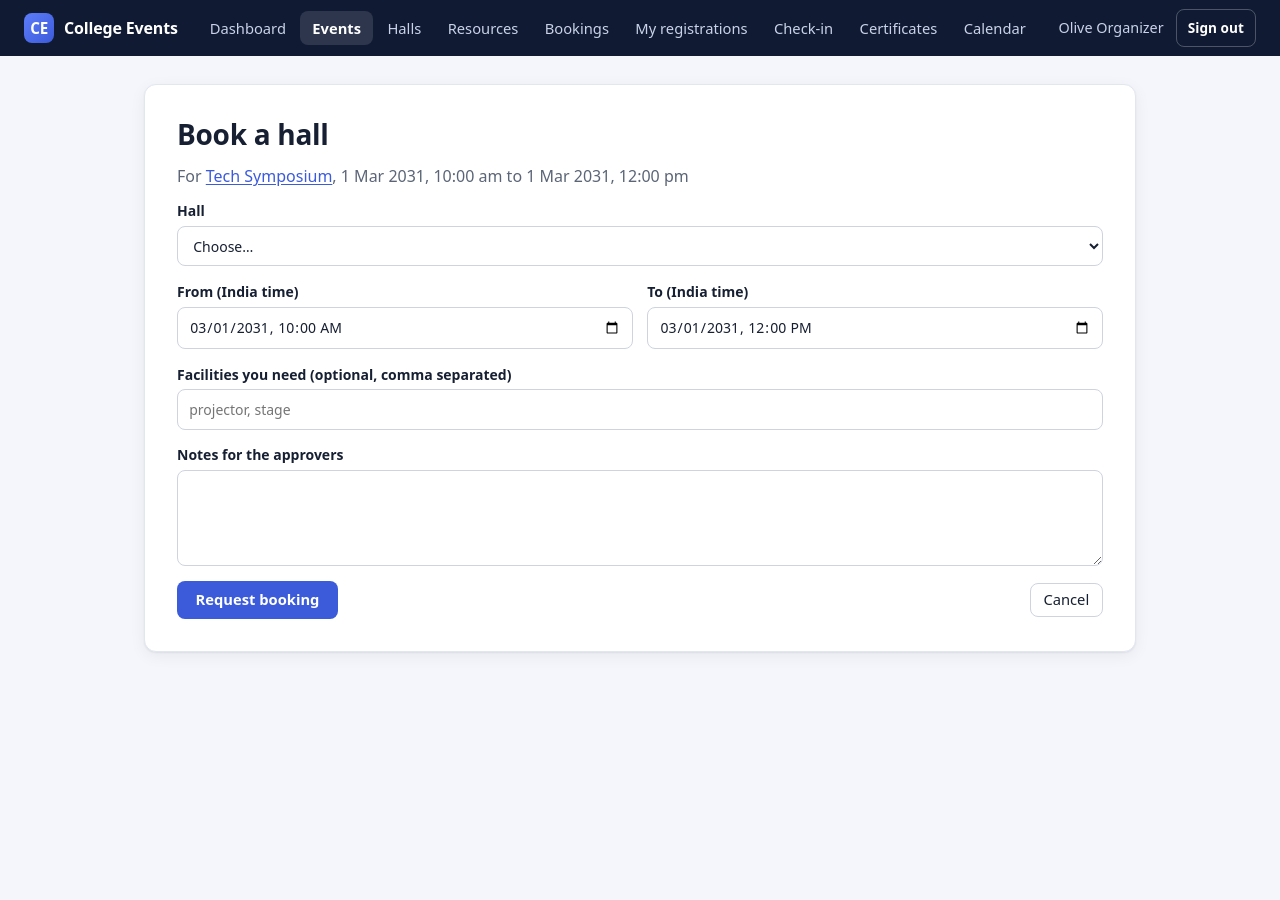
it: booking form › shows warnings and books only after "Book anyway"
Select "Main Hall (seats 200)" in the dropdown labelled "Hall": (640, 246) 177,226 -> 1103,266
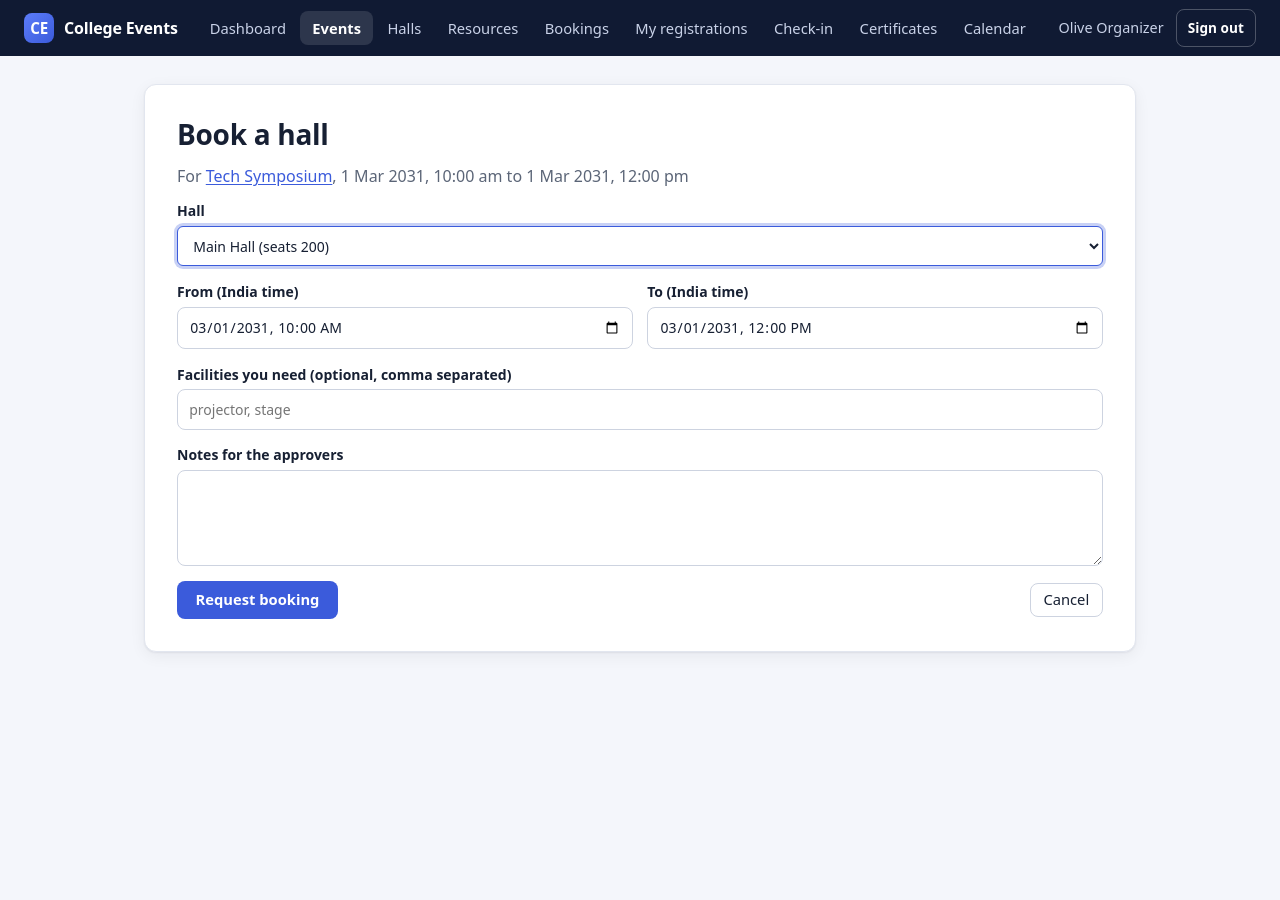
Click the button "Request booking": (258, 600) 177,580 -> 338,619
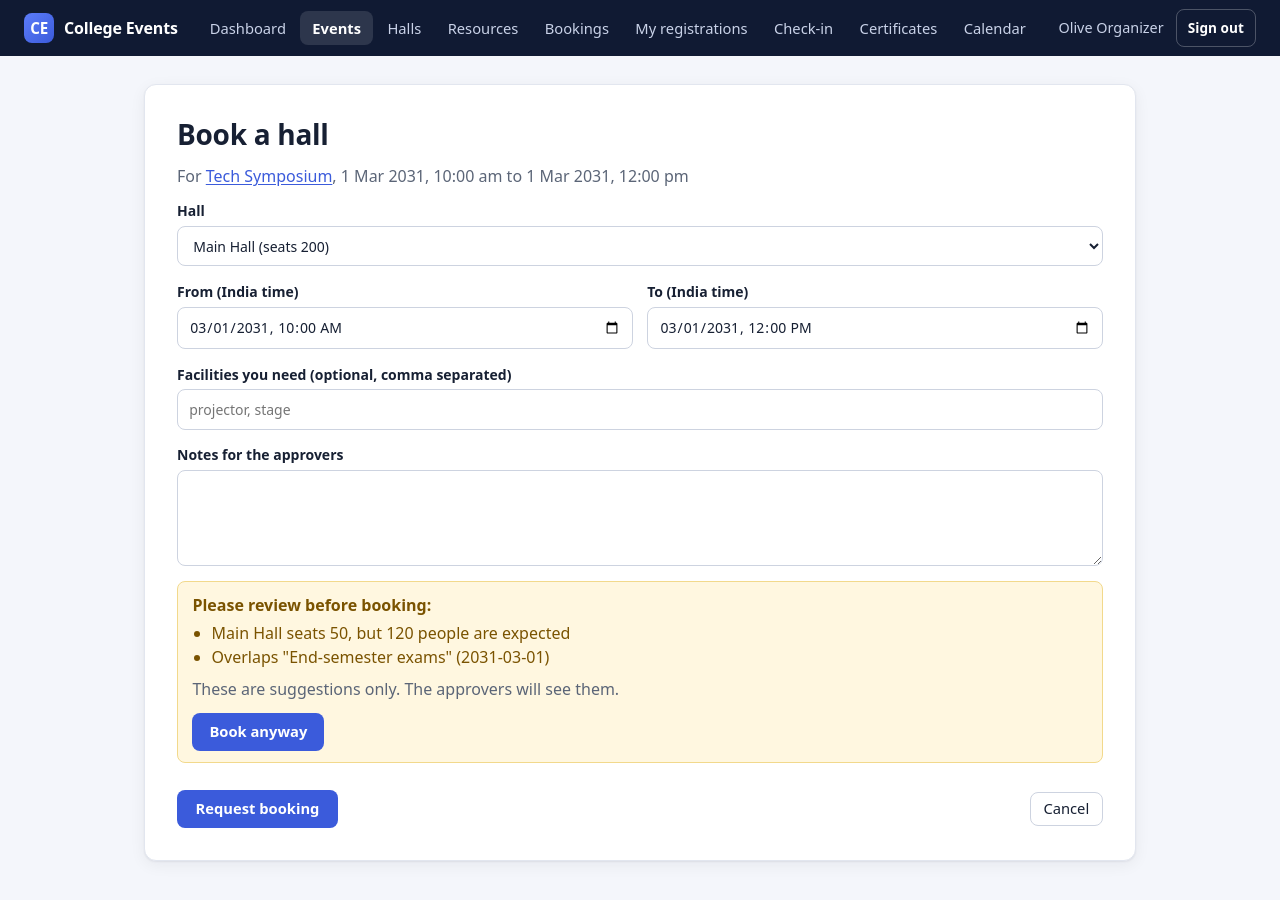
Expected: the message named "Warnings" shows "seats 50, but 120 people are expected", 212,622 -> 570,644
Expected: the message named "Warnings" shows "End-semester exams", 212,646 -> 549,668
Expected: the message named "Warnings" shows "suggestions only", 192,678 -> 619,700
Click the button "Book anyway": (258, 732) 192,713 -> 324,751
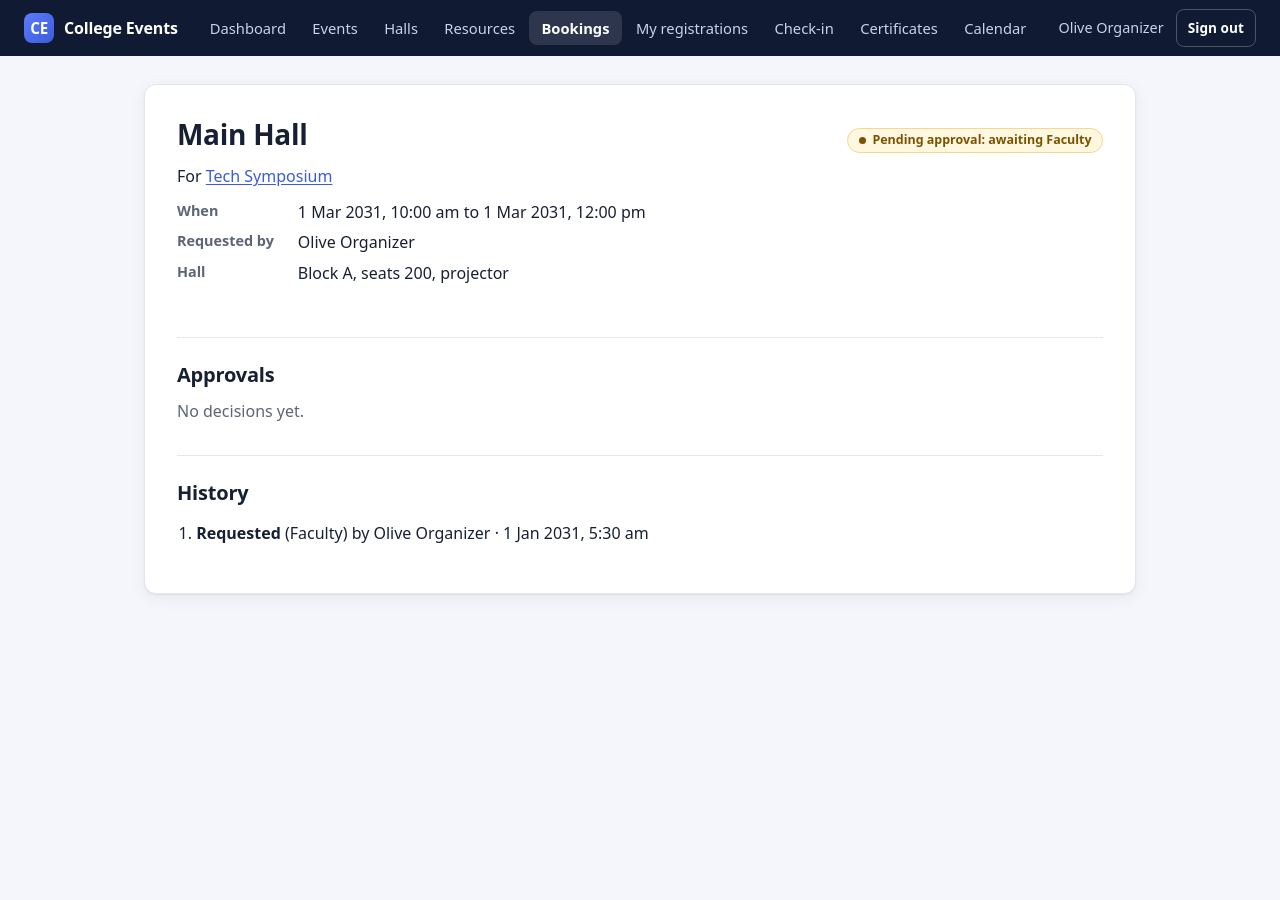
Expected: the heading "Main Hall" is shown, 177,117 -> 307,152
